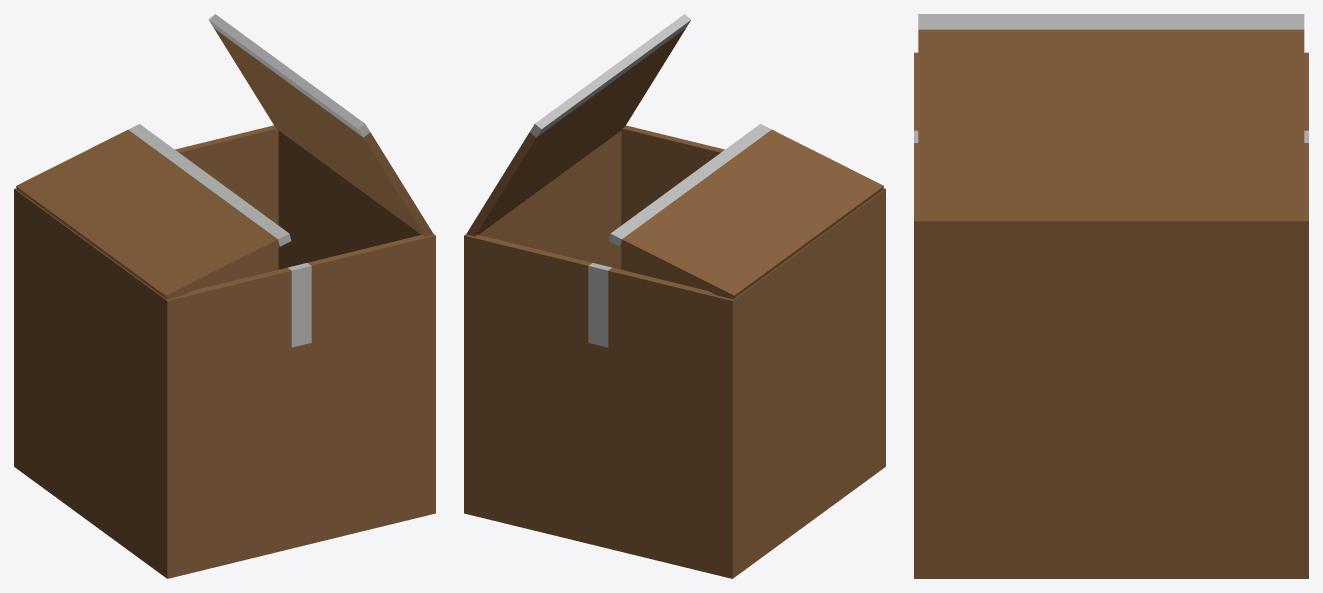
3 renders of one model, left to right at view 1: azimuth 30°, elevation 25°; view 2: azimuth 150°, elevation 25°; view 3: azimuth 270°, elevation 25°, orthographic. The views are drawn at different scales.
Parts seen in each view (by area): view 1: Cube; view 2: Cube; view 3: Cube.
Part boxes in pixels (x1,y1,x2,y2): Cube: (14, 14, 435, 578); Cube: (464, 14, 885, 578); Cube: (914, 14, 1308, 578).
Bounding box in the file's own units: 79.42 × 115 × 78.57.
